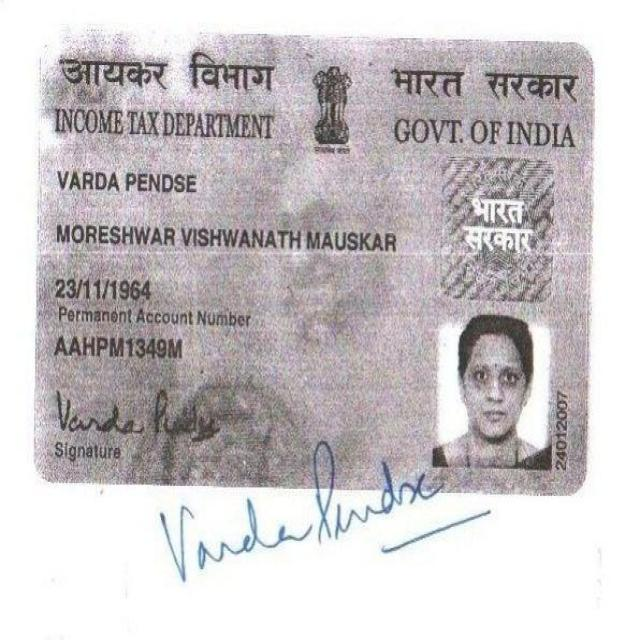pan_card: (33, 36, 592, 492)
